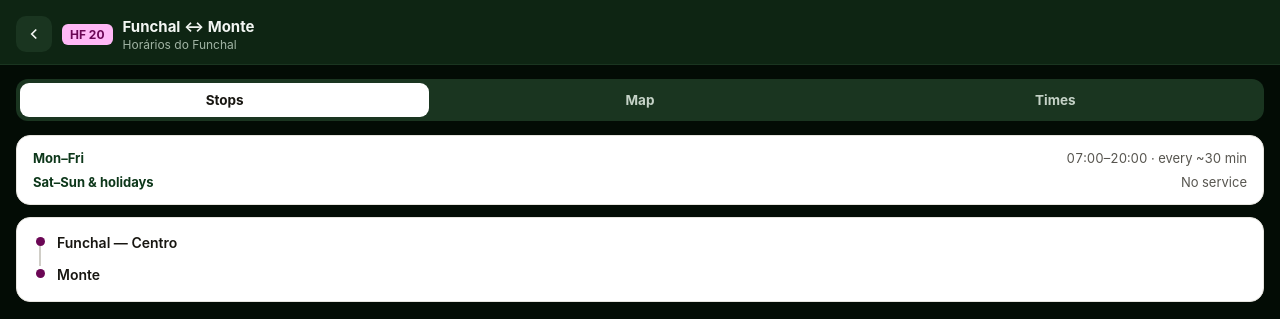
Scenario: RouteDetailScreen › Times view › shows a message when a route has no schedule data
This screenshot has width=1280, height=319.
Step 1. Click the button "Times" → click(1055, 100), box [851,83,1260,117]
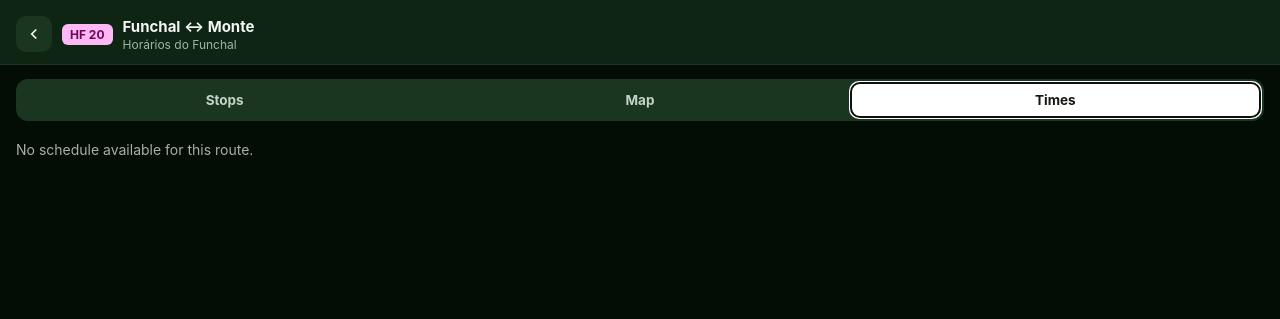
Result: the text "No schedule available for this route." is shown at [16,141,253,158]
